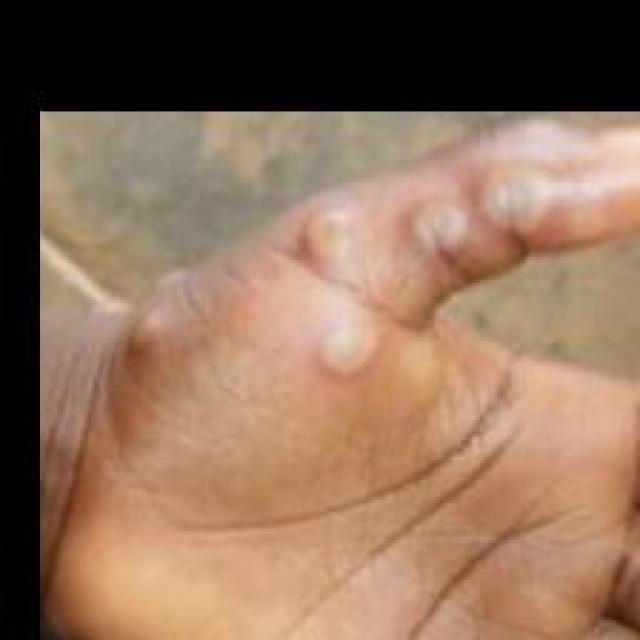monkeypox: (59, 102, 640, 640)
